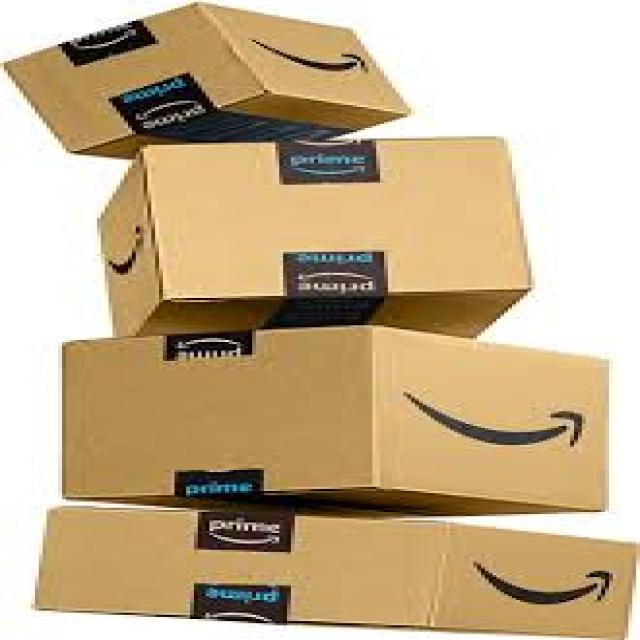cardboxes: (61, 327, 609, 517), (98, 135, 534, 338), (35, 505, 639, 638), (3, 3, 410, 160)
